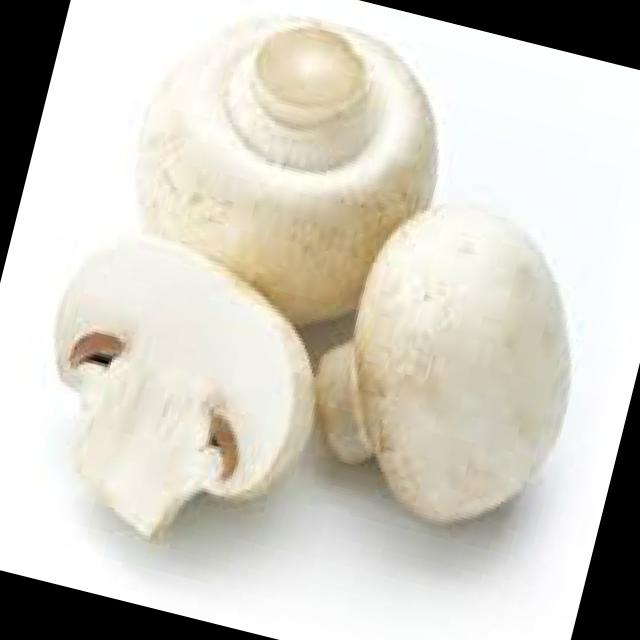Agaricus bisporus: (108, 0, 467, 347), (292, 186, 612, 546), (13, 220, 338, 568)
